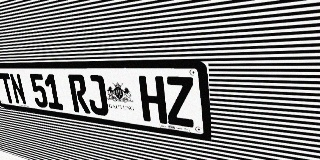1: (42, 74, 63, 110)
5: (29, 74, 49, 108)
H: (138, 76, 167, 124)
J: (85, 75, 109, 116)
N: (9, 73, 27, 105)
R: (68, 74, 91, 114)
T: (0, 73, 16, 104)
Z: (164, 76, 196, 128)
